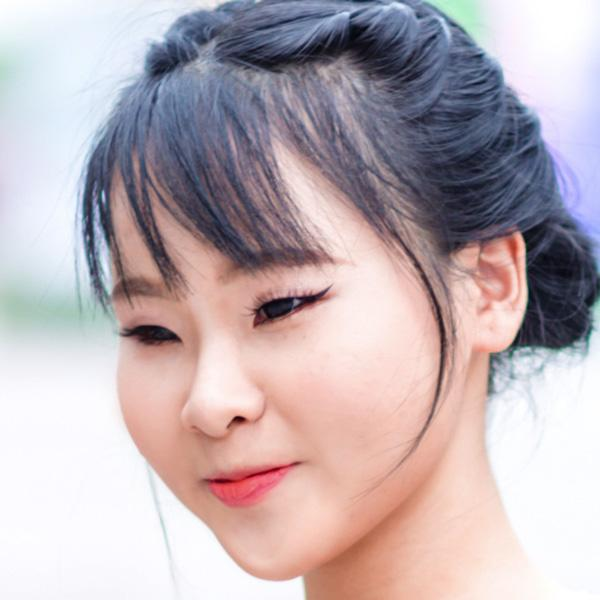Eyes: (235, 280, 341, 340), (116, 302, 192, 363)
